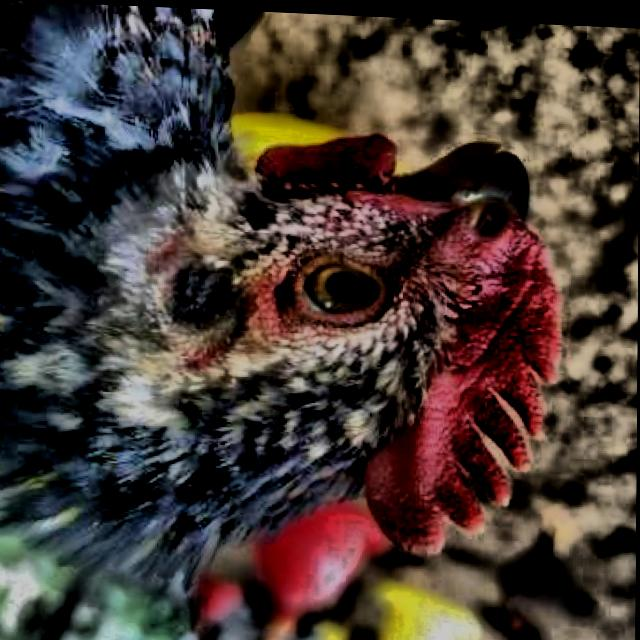Healthy: (260, 239, 405, 330)
